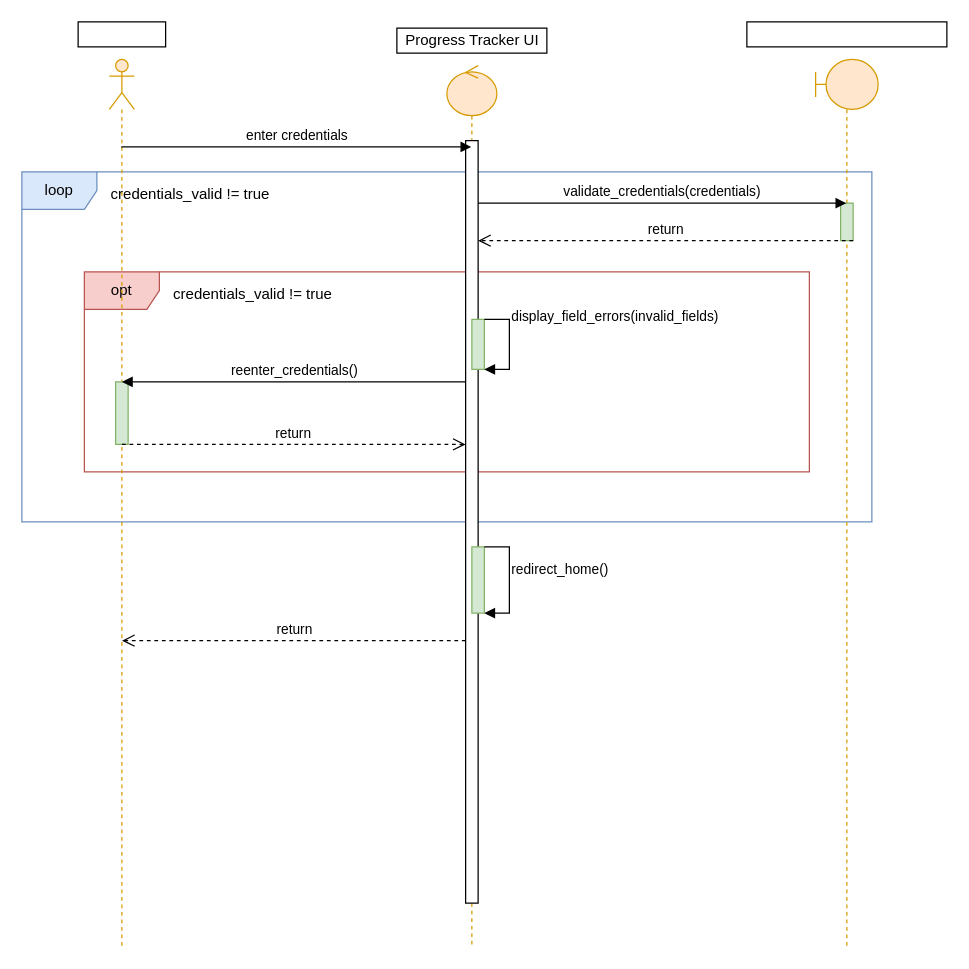
The diagram is 969 pixels wide and 969 high, and some of its shapes have lost their labels. Here are the shapes that lost their labels. From the top down, the centre of each, then its label:
At point (121, 34): "User: User".
At point (846, 34): "Progress Tracker Backend".
